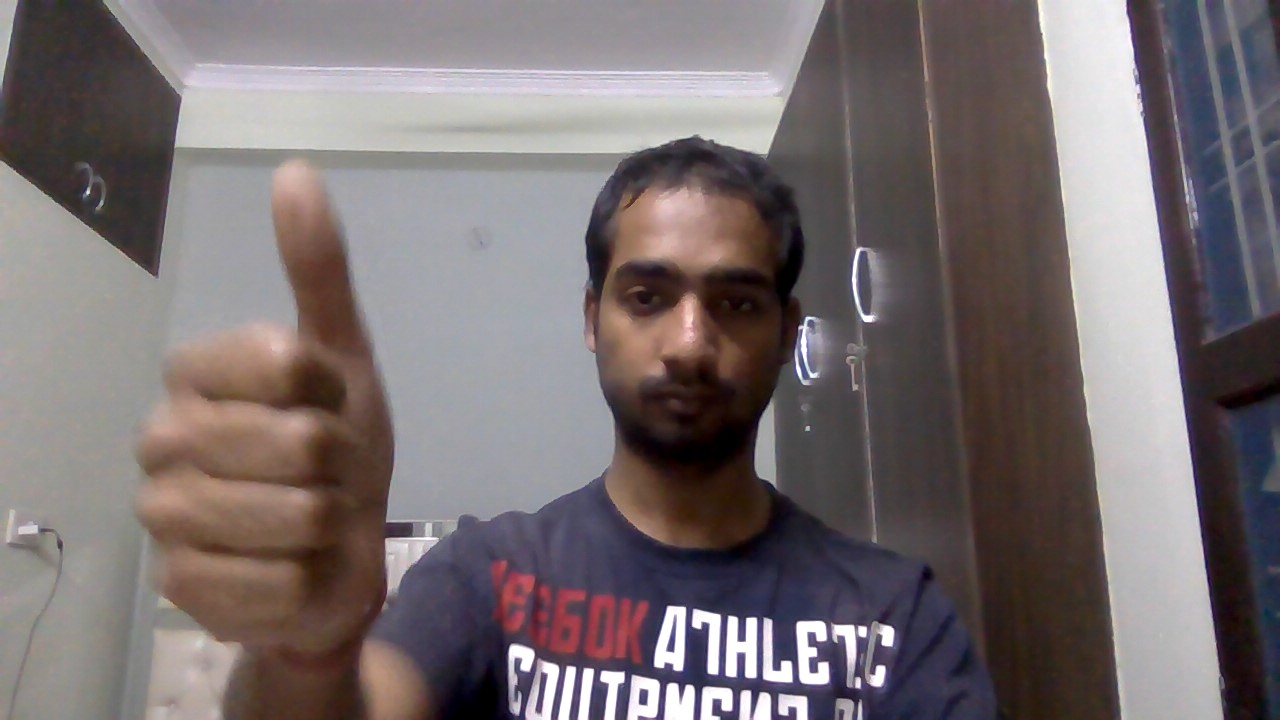Save: (115, 147, 432, 660)
